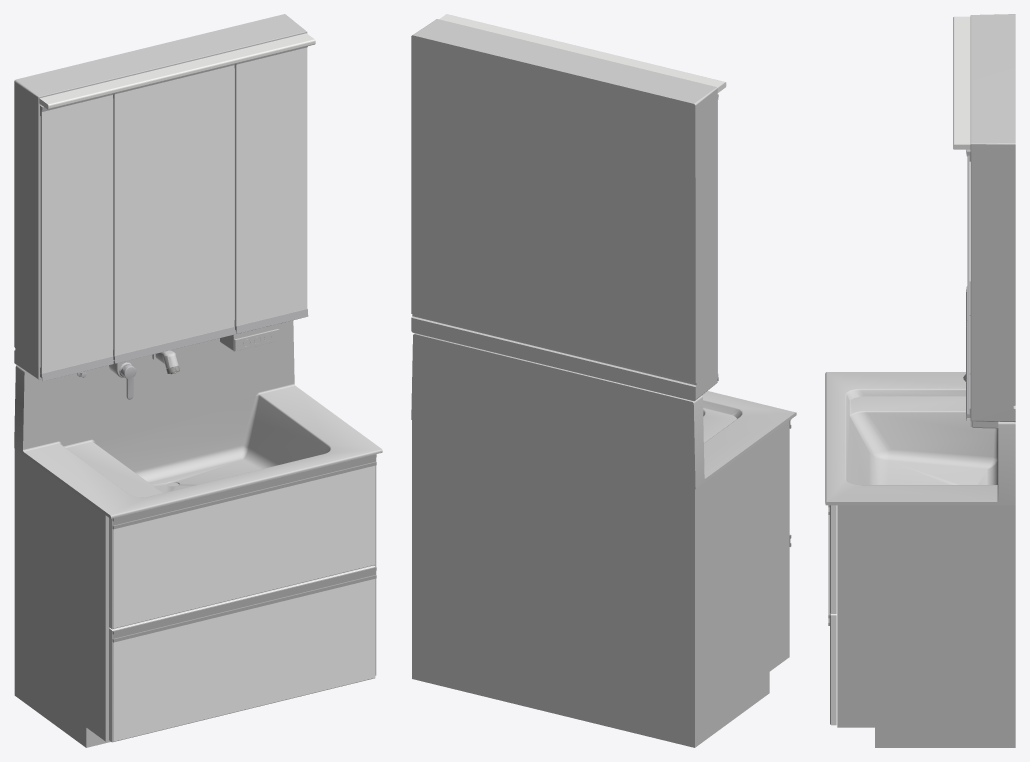
The model's file is SM_WashBasin_2.fbx.
3 renders of one model, left to right at view 1: azimuth 30°, elevation 25°; view 2: azimuth 150°, elevation 25°; view 3: azimuth 270°, elevation 25°, orthographic. The views are drawn at different scales.
Visible parts, largest first — view 1: SM_WashBasin_2; view 2: SM_WashBasin_2; view 3: SM_WashBasin_2.
Part boxes in pixels (bbox=[...]): SM_WashBasin_2: bbox=[14, 14, 382, 747]; SM_WashBasin_2: bbox=[411, 14, 796, 747]; SM_WashBasin_2: bbox=[825, 14, 1015, 747].
Size of the model in its own units: 0.9 by 1.95 by 0.555.
Materials: 7 (1 with a texture image).
